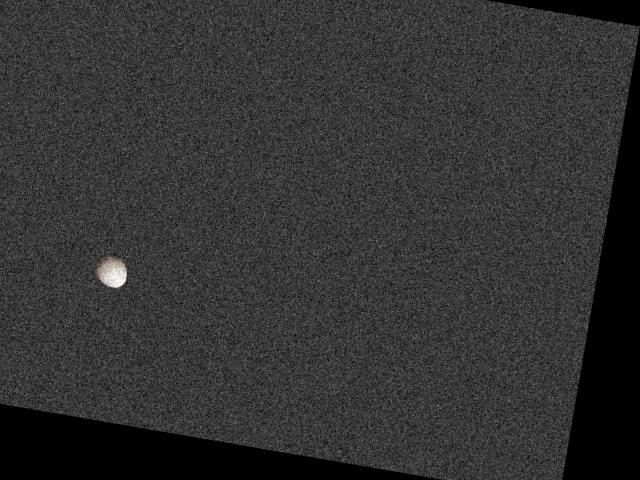egg: (91, 252, 129, 289)
